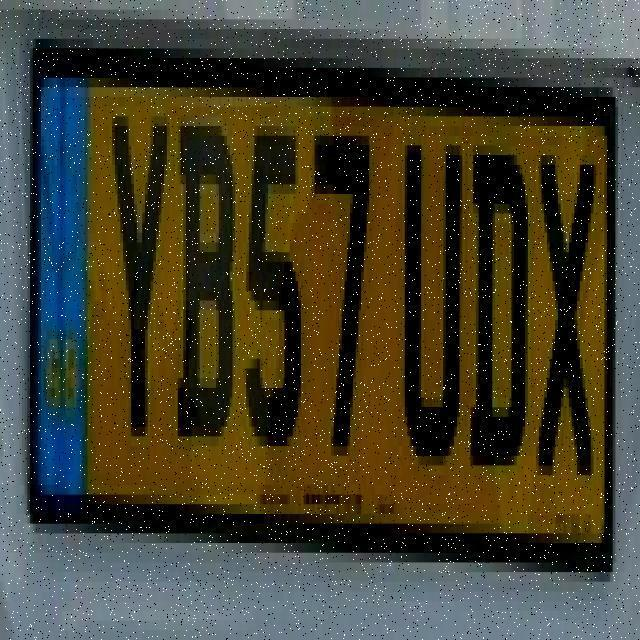LicensePlate: (23, 24, 629, 582)
